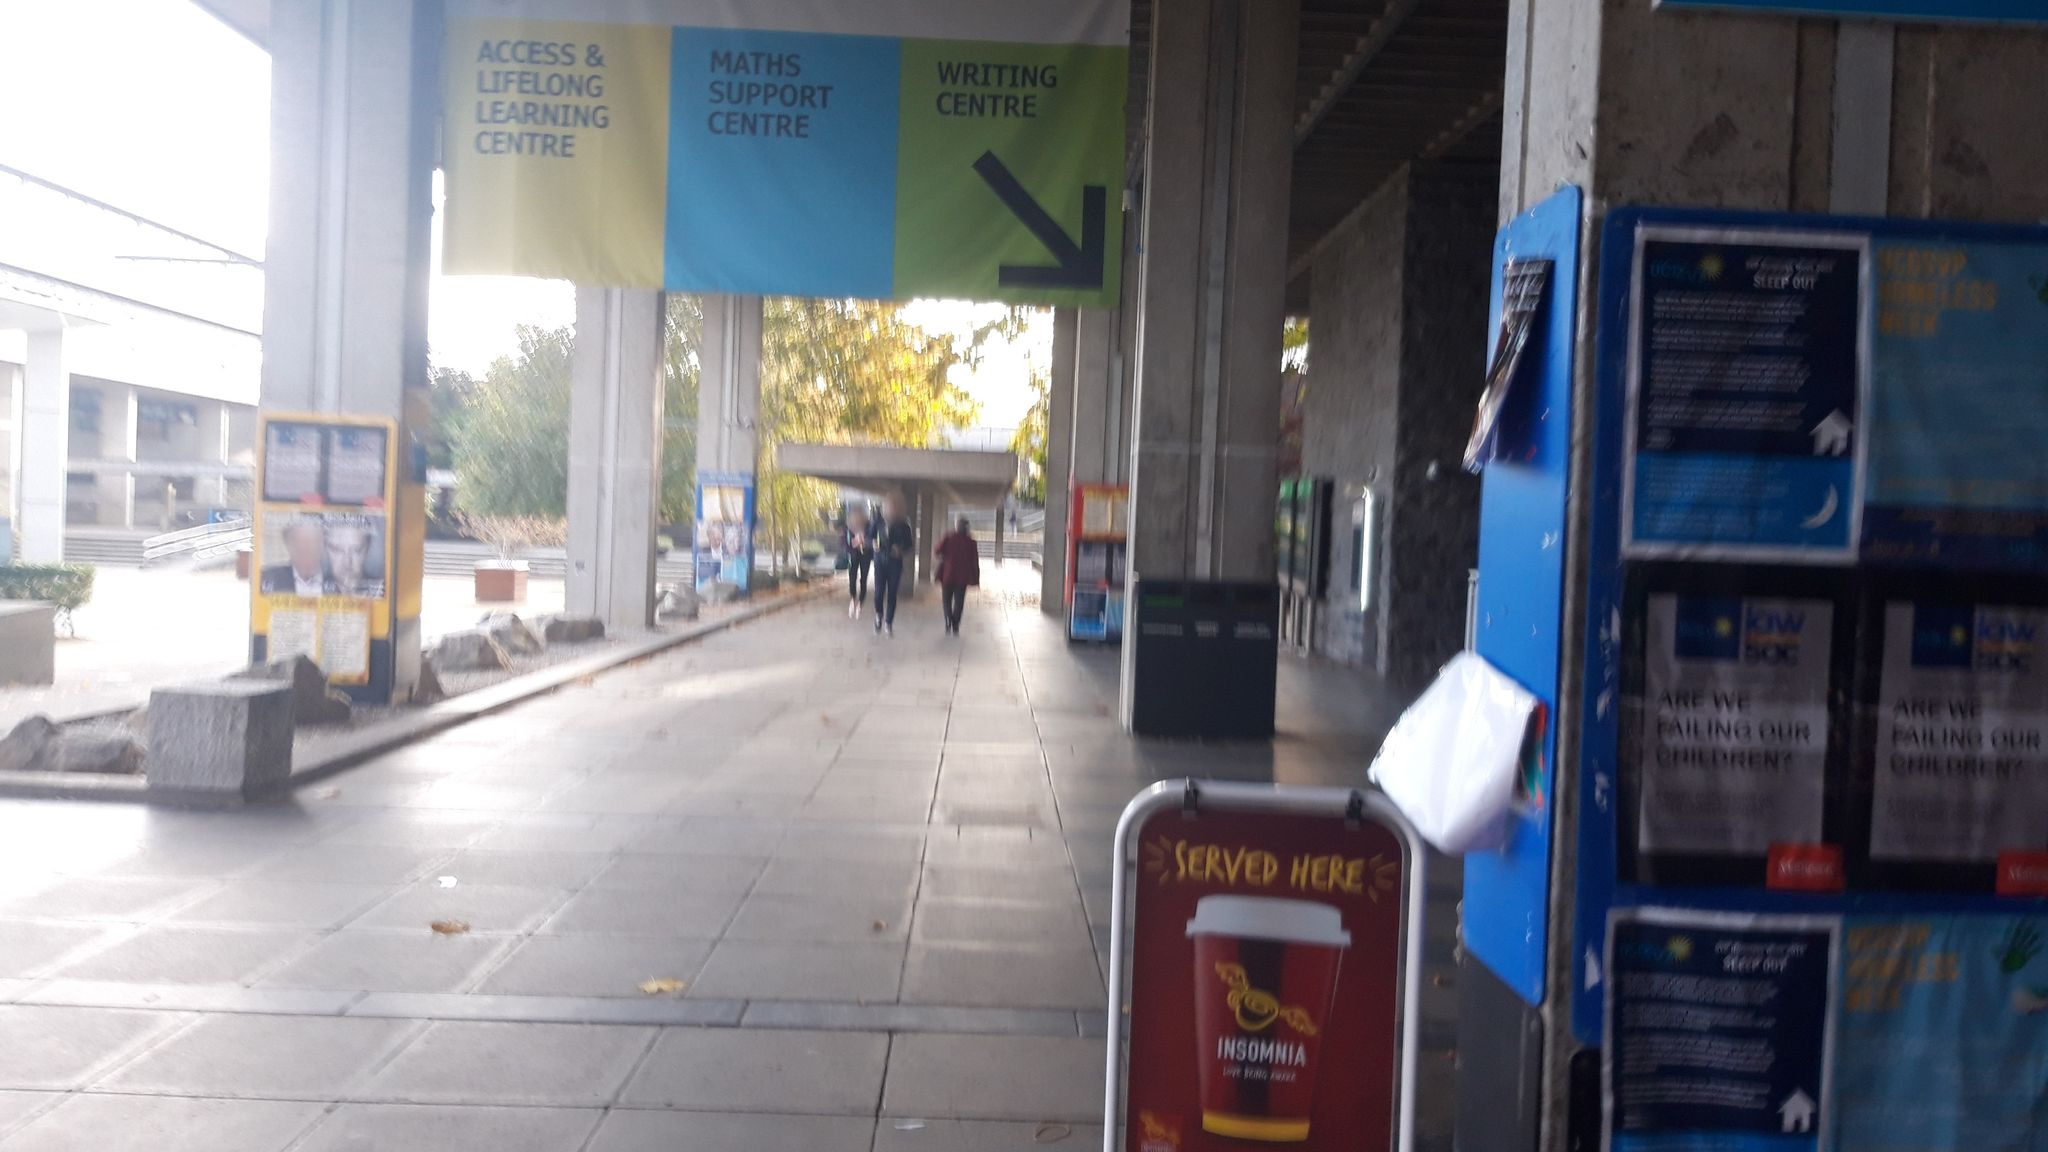vinyl banner: (447, 3, 1156, 332)
